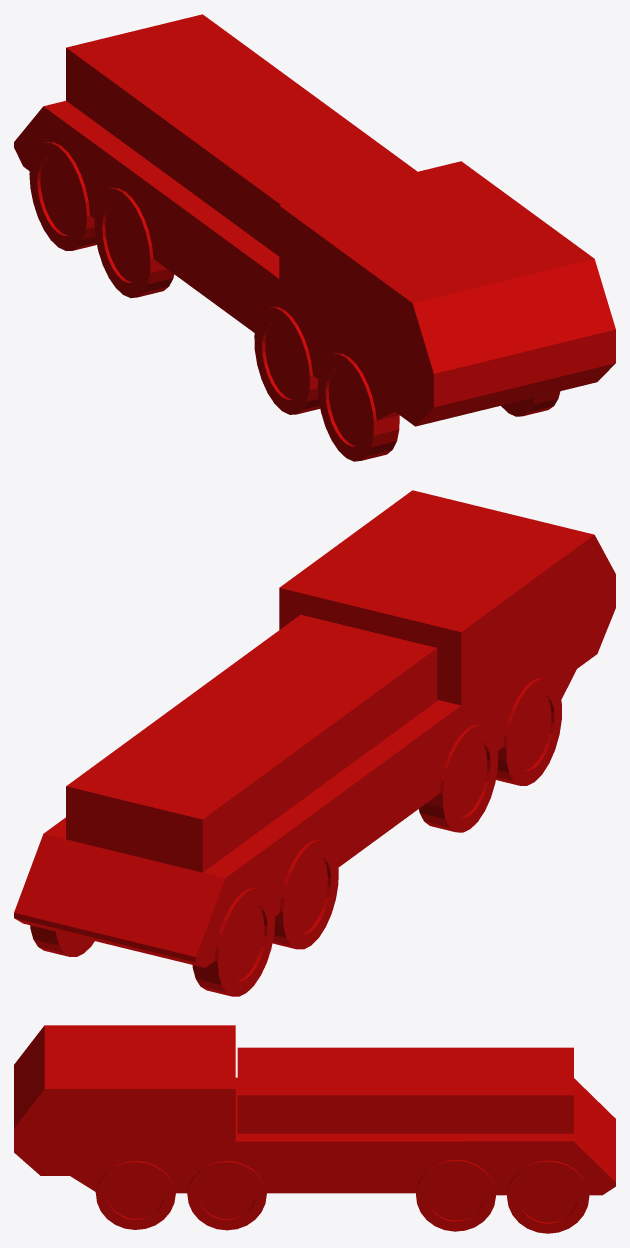
The model's file is Boardgame_Piece_Military_Modern_Scud_Red_01.fbx.
The picture shows the model from 3 angles, top to bottom: view 1: azimuth 30°, elevation 25°; view 2: azimuth 150°, elevation 25°; view 3: azimuth 270°, elevation 25°; orthographic projection. The views are drawn at different scales.
Parts seen in each view (by area): view 1: Boardgame_Piece_Military_Modern_Scud_Red_01; view 2: Boardgame_Piece_Military_Modern_Scud_Red_01; view 3: Boardgame_Piece_Military_Modern_Scud_Red_01.
Part boxes in pixels (left/top/right/bottom): Boardgame_Piece_Military_Modern_Scud_Red_01: left=14, top=14, right=615, bottom=461; Boardgame_Piece_Military_Modern_Scud_Red_01: left=14, top=490, right=615, bottom=996; Boardgame_Piece_Military_Modern_Scud_Red_01: left=14, top=1025, right=615, bottom=1233.
Bounding box in the file's own units: 725 × 738 × 2802.
